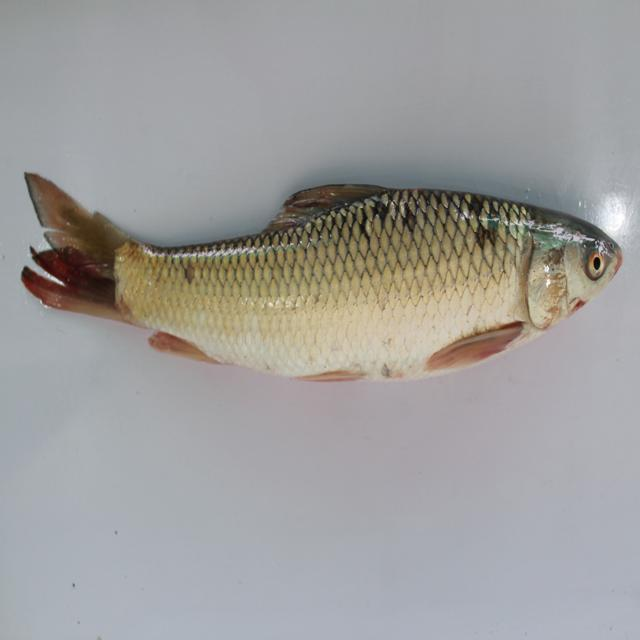Mori: (25, 154, 624, 394)
